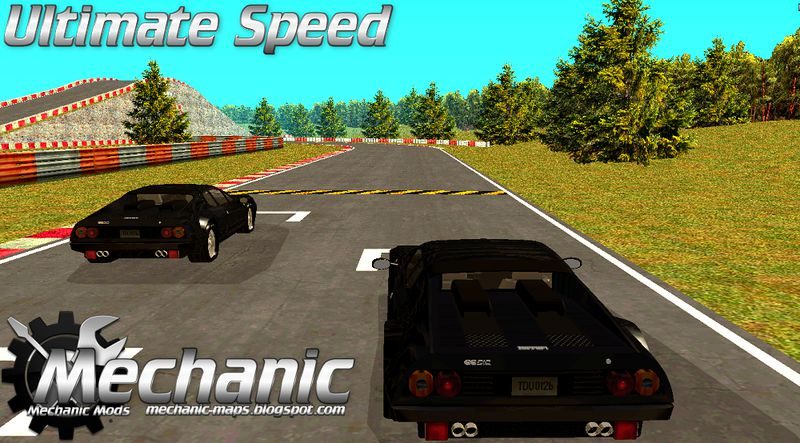car: (378, 236, 691, 443), (73, 183, 251, 261)
